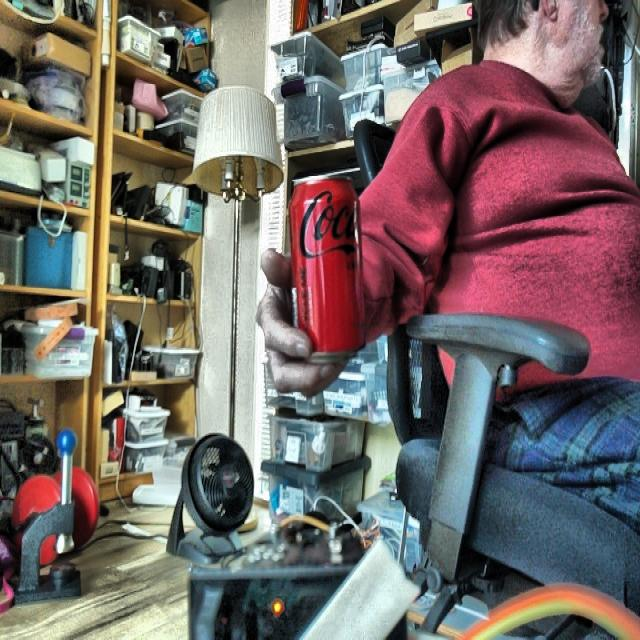Can: (289, 178, 363, 362)
